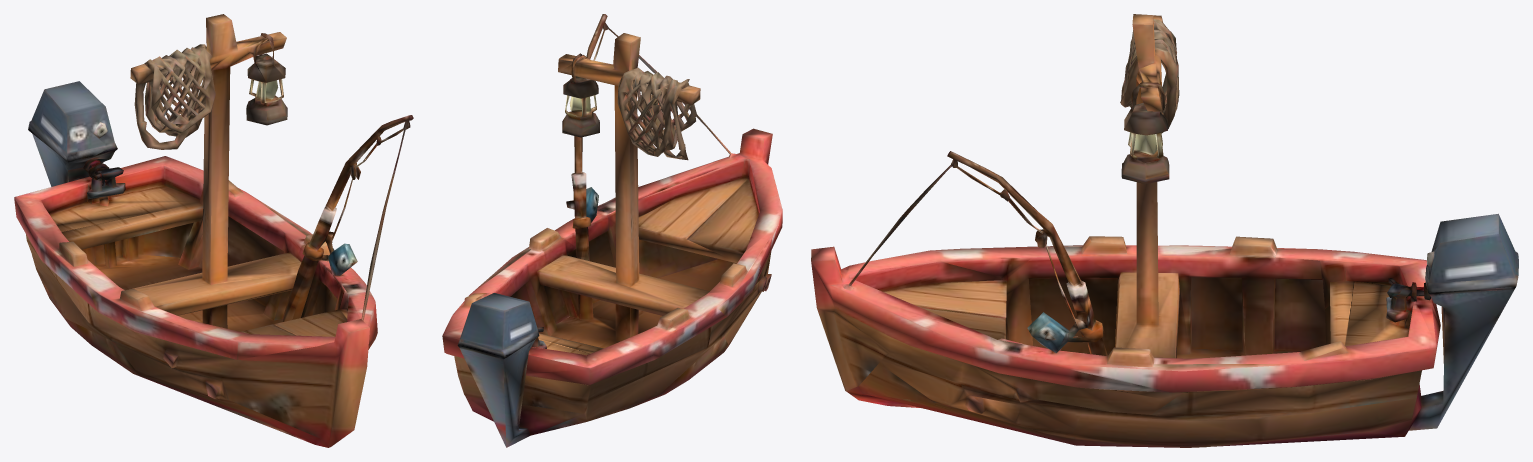
Rendered from yuchuan.glb.
3 views of the same model, side by side, from view 1: azimuth 30°, elevation 25°; view 2: azimuth 150°, elevation 25°; view 3: azimuth 270°, elevation 25° (orthographic). The views are drawn at different scales.
Parts seen in each view (by area): view 1: node_0; view 2: node_0; view 3: node_0.
Boxes of the visible parts, <box> form: node_0: <box>14,14,413,447</box>; node_0: <box>442,14,782,447</box>; node_0: <box>811,14,1518,447</box>.
Size of the model in its own units: 0.4699 by 0.7221 by 1.11.
Materials: 1 (1 with a texture image).
